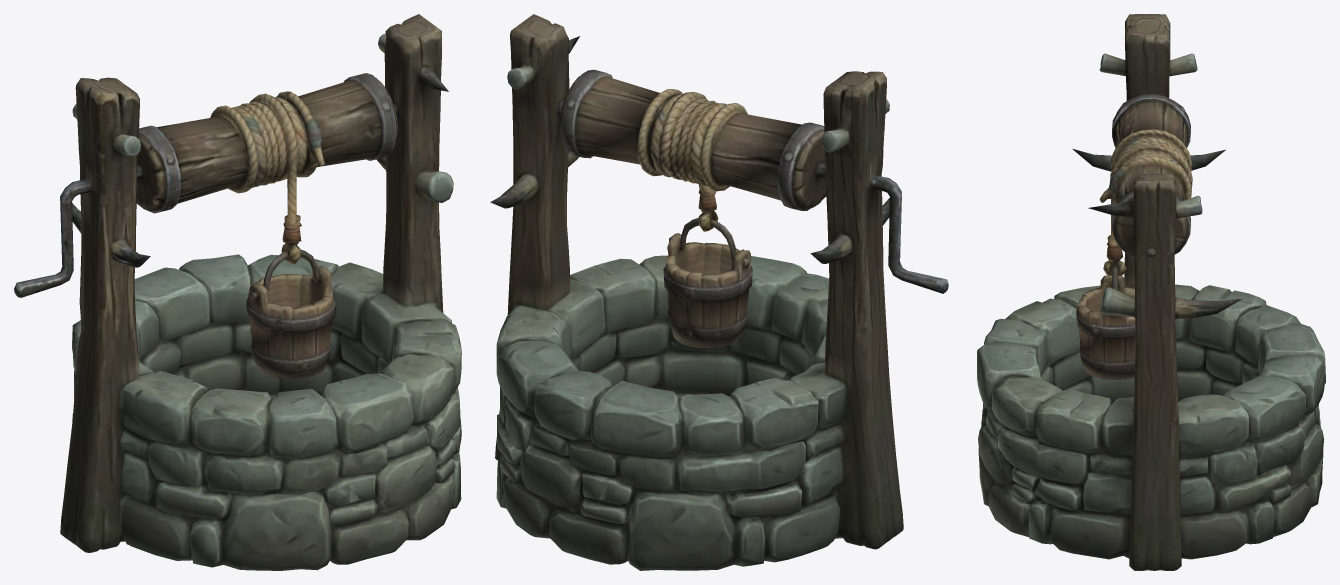
Rendered from kit_well_hero.glb.
The picture shows the model from 3 angles, left to right: view 1: azimuth 30°, elevation 25°; view 2: azimuth 150°, elevation 25°; view 3: azimuth 270°, elevation 25°; orthographic projection. The views are drawn at different scales.
Parts seen in each view (by area): view 1: kit_well_hero; view 2: kit_well_hero; view 3: kit_well_hero.
Boxes of the visible parts, <box> form: kit_well_hero: <box>14,14,461,570</box>; kit_well_hero: <box>490,14,948,570</box>; kit_well_hero: <box>977,14,1325,570</box>.
Size of the model in its own units: 1.9 by 1.9 by 1.49.
1 material, 1 textured.
